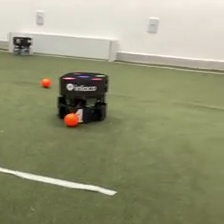ball: (62, 111, 79, 128), (40, 76, 51, 88)
goal: (6, 29, 119, 63)
robot: (56, 69, 112, 124), (11, 34, 35, 57)
